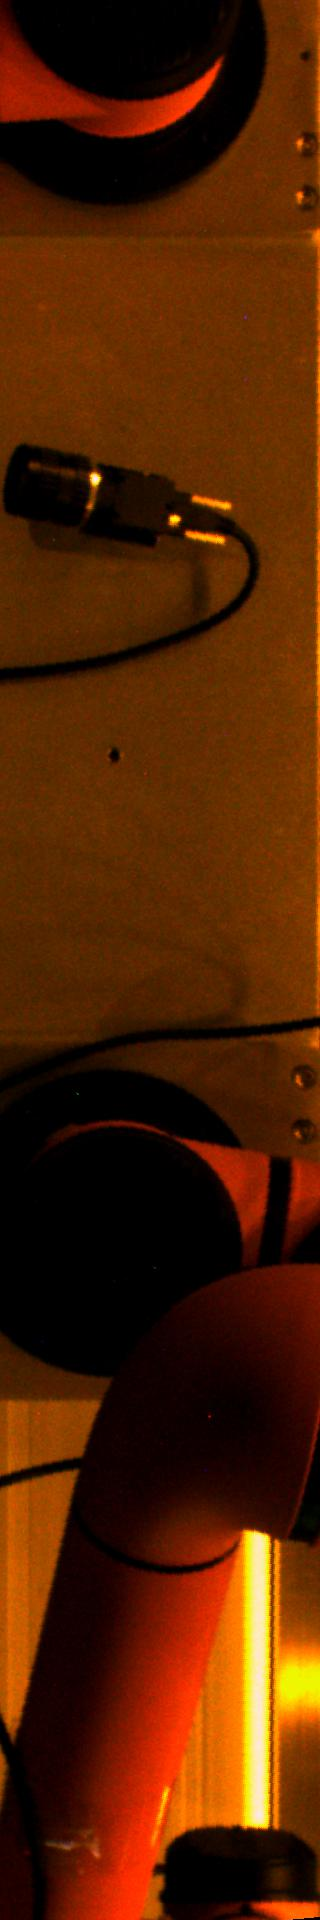keyPoint_2: (98, 742, 128, 771)
